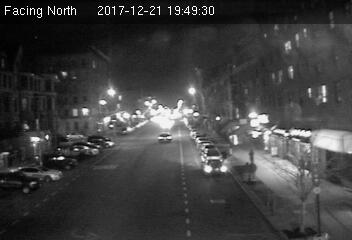car: (202, 159, 227, 175), (157, 131, 173, 142)
